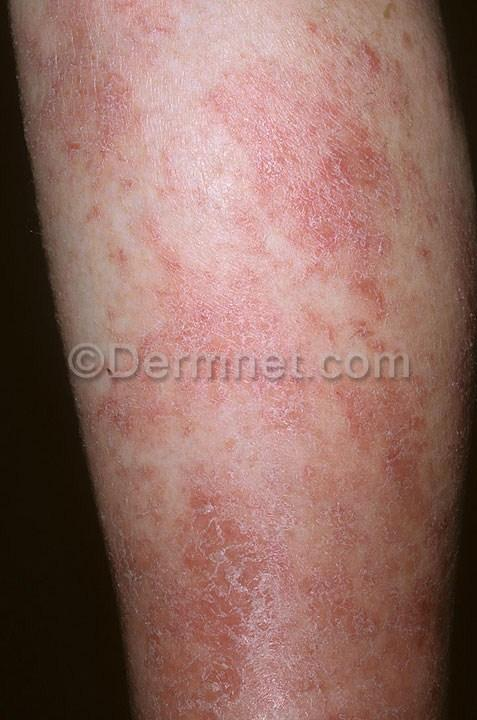Eczema: (108, 435, 454, 720), (213, 0, 477, 336), (91, 241, 386, 502), (0, 0, 211, 155)
